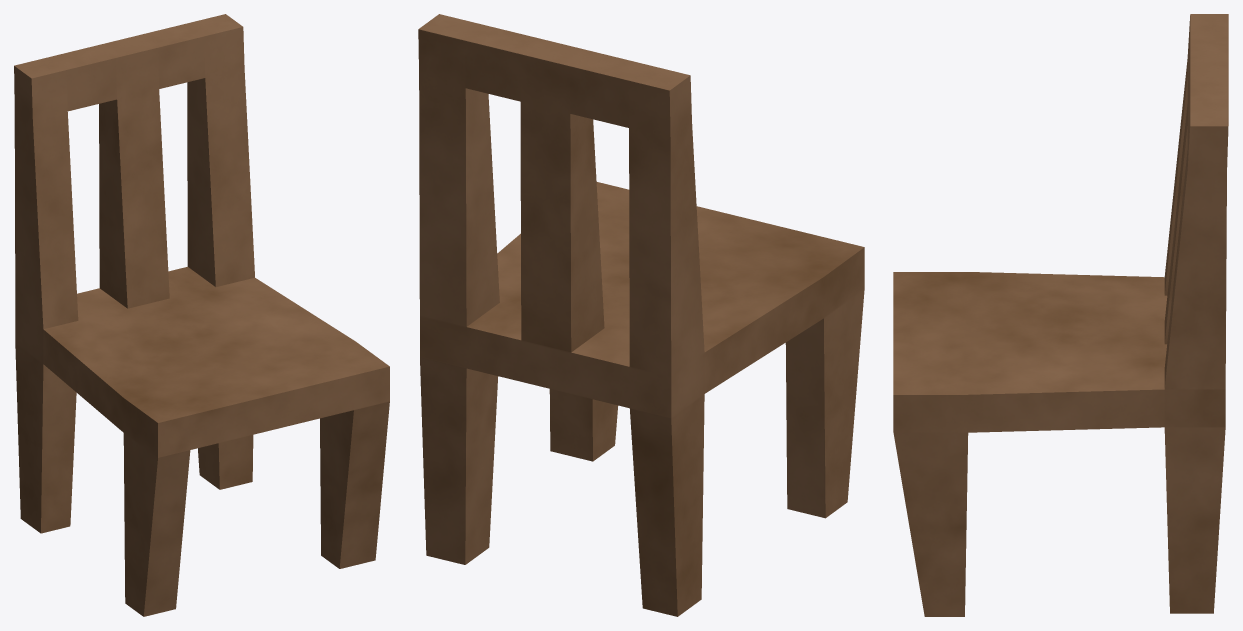
The model's file is Chair_Fixed.fbx.
3 views of the same model, side by side, from view 1: azimuth 30°, elevation 25°; view 2: azimuth 150°, elevation 25°; view 3: azimuth 270°, elevation 25° (orthographic). The views are drawn at different scales.
Visible parts, largest first — view 1: ChairBack1; view 2: ChairBack1; view 3: ChairBack1.
Boxes of the visible parts, <box> form: ChairBack1: <box>14,14,389,616</box>; ChairBack1: <box>418,14,864,616</box>; ChairBack1: <box>893,14,1228,616</box>.
Bounding box in the file's own units: 47.72 × 88.15 × 54.94.
